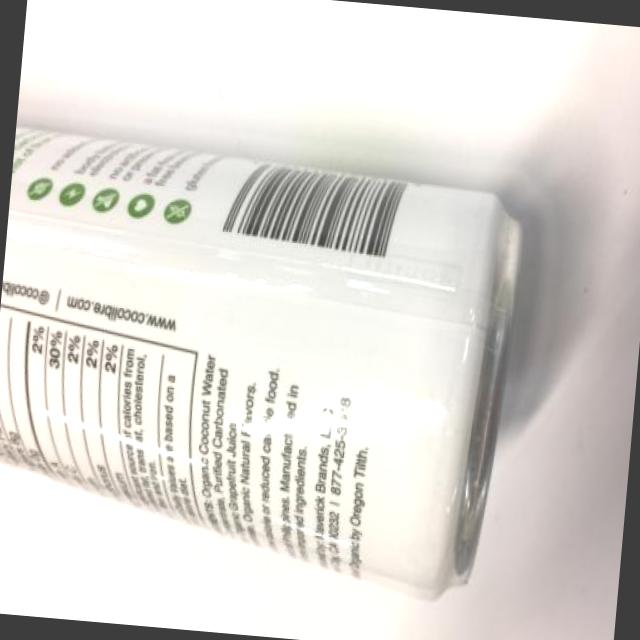Recycle: (0, 120, 534, 611)
